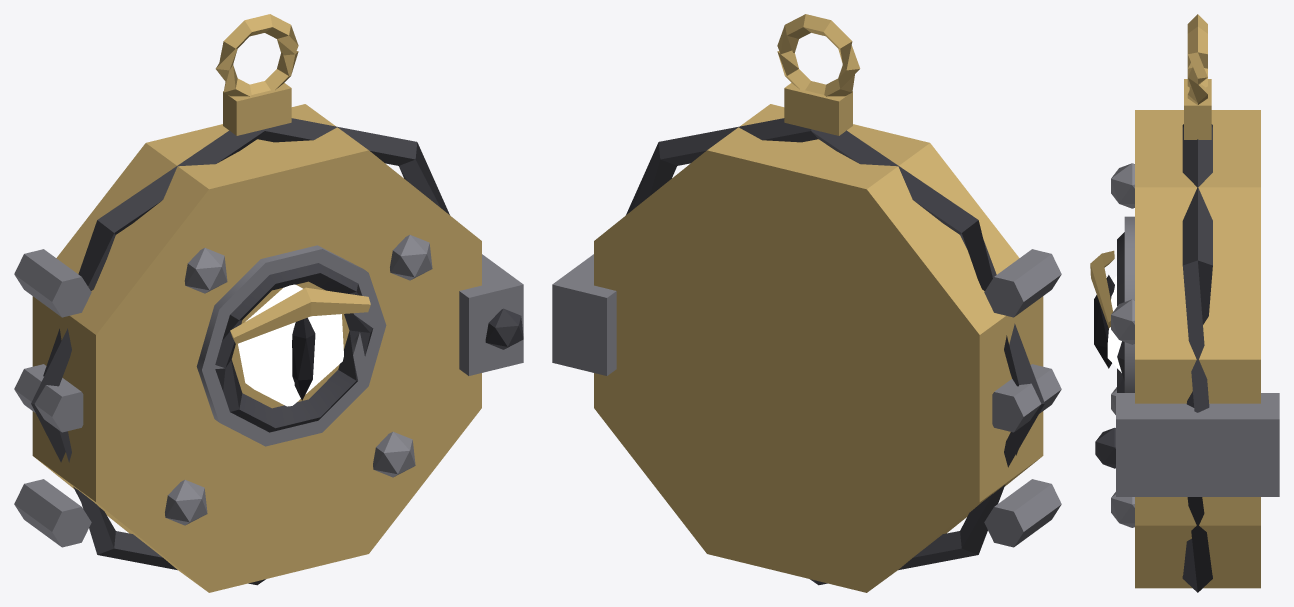
Rendered from astrolabe-star-ledger.glb.
3 renders of one model, left to right at view 1: azimuth 30°, elevation 25°; view 2: azimuth 150°, elevation 25°; view 3: azimuth 270°, elevation 25°, orthographic.
Parts seen in each view (by area): view 1: astrolabe_star_ledger; view 2: astrolabe_star_ledger; view 3: astrolabe_star_ledger.
Part boxes in pixels (bbox=[...]): astrolabe_star_ledger: bbox=[14, 14, 523, 592]; astrolabe_star_ledger: bbox=[552, 14, 1061, 592]; astrolabe_star_ledger: bbox=[1090, 14, 1279, 592].
Size of the model in its own units: 0.729 by 0.8763 by 0.2668.
